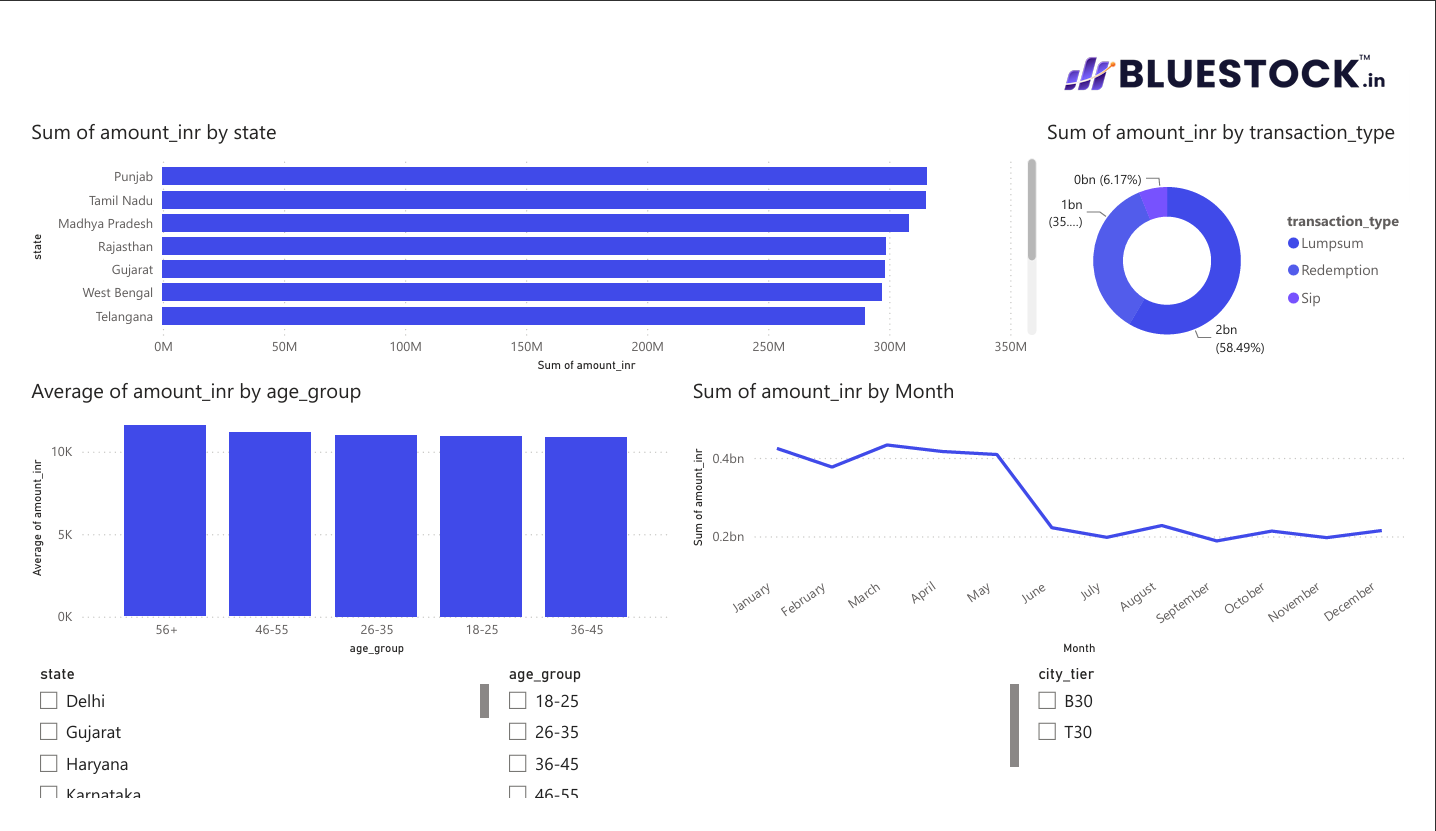

The page's visual inventory and layout, read from the dashboard file:
{"tool":"powerbi","page":{"name":"Page 3","canvas":[1280,720],"ordinal":2},"visuals":[{"type":"clusteredBarChart","fields":{"Category":["investor_transactions_clean.state"],"Y":["Sum(investor_transactions_clean.amount_inr)"]},"box":[0,84,940,240],"z":0},{"type":"donutChart","fields":{"Category":["investor_transactions_clean.transaction_type"],"Y":["Sum(investor_transactions_clean.amount_inr)"]},"box":[940,84,340,240],"z":1000},{"type":"clusteredColumnChart","fields":{"Category":["investor_transactions_clean.age_group"],"Y":["Avg(investor_transactions_clean.amount_inr)"]},"box":[0,324,602,262],"z":2000},{"type":"lineChart","fields":{"Y":["Sum(investor_transactions_clean.amount_inr)"],"Category":["investor_transactions_clean.transaction_date.Variation.Date Hierarchy.Month"]},"box":[612,324,668,262],"z":3000},{"type":"slicer","fields":{"Values":["investor_transactions_clean.state"]},"box":[0,586,434,134],"z":4000},{"type":"slicer","fields":{"Values":["investor_transactions_clean.age_group"]},"box":[434,586,490,134],"z":5000},{"type":"slicer","fields":{"Values":["investor_transactions_clean.city_tier"]},"box":[924,586,356,134],"z":6000},{"type":"image","box":[960,11.7,300,60],"z":7000}]}

Visuals, with their boxes in screenshot pixels (x1, y1, x2, y2), scaled from the page's 1280x720 canvas onto the 1436x831 screenshot:
clusteredBarChart - investor_transactions_clean.state x Sum(investor_transactions_clean.amount_inr): [x1=0, y1=97, x2=1055, y2=374]
donutChart - investor_transactions_clean.transaction_type x Sum(investor_transactions_clean.amount_inr): [x1=1055, y1=97, x2=1435, y2=374]
clusteredColumnChart - investor_transactions_clean.age_group x Avg(investor_transactions_clean.amount_inr): [x1=0, y1=374, x2=675, y2=676]
lineChart - Sum(investor_transactions_clean.amount_inr) x investor_transactions_clean.transaction_date.Variation.Date Hierarchy.Month: [x1=687, y1=374, x2=1435, y2=676]
slicer - investor_transactions_clean.state: [x1=0, y1=676, x2=487, y2=830]
slicer - investor_transactions_clean.age_group: [x1=487, y1=676, x2=1037, y2=830]
slicer - investor_transactions_clean.city_tier: [x1=1037, y1=676, x2=1435, y2=830]
image: [x1=1077, y1=14, x2=1414, y2=83]
